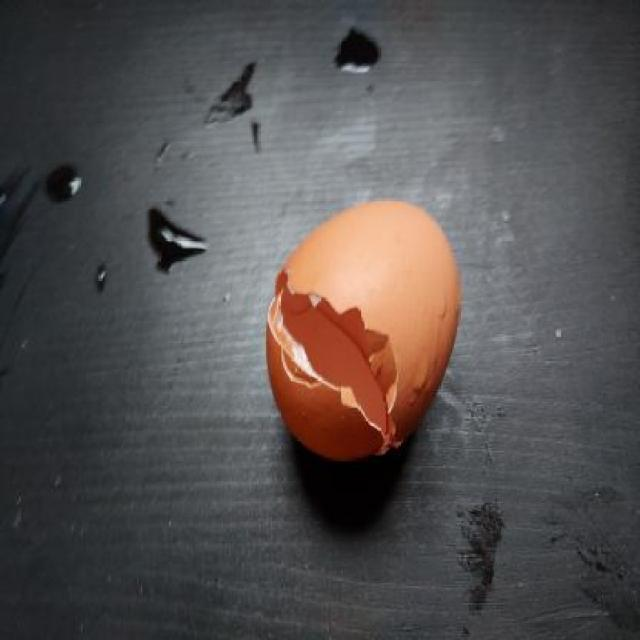biodegradable: (256, 190, 470, 468)
